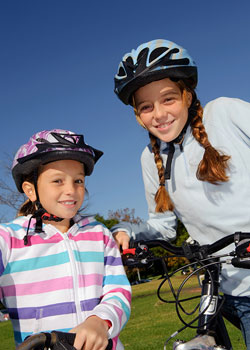helmet: (113, 38, 197, 141), (11, 128, 104, 218)
